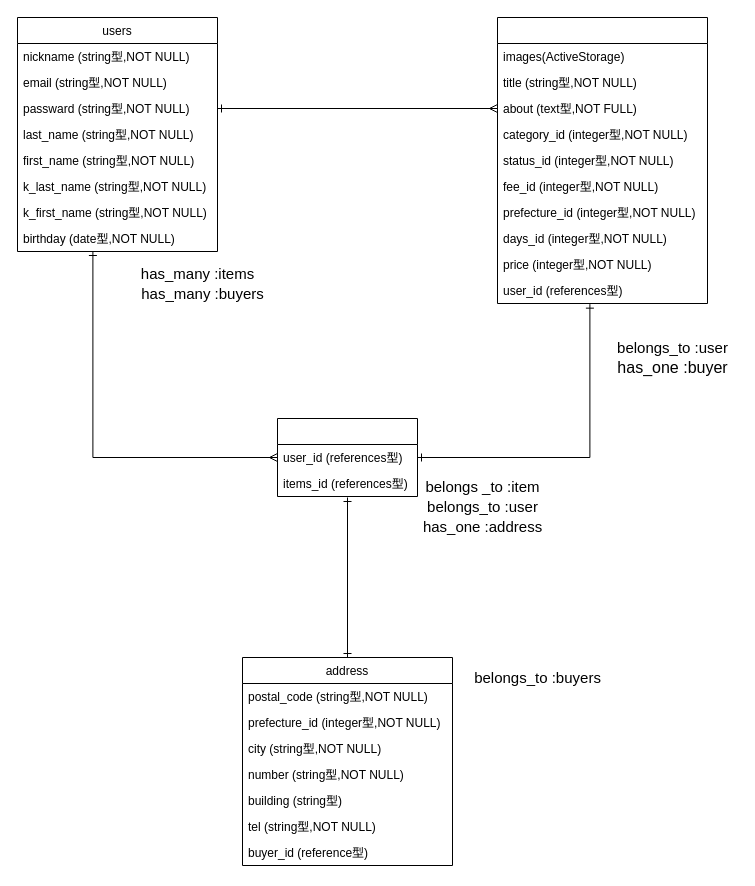
The diagram is 755 pixels wide and 886 high, and some of its shapes have lost their labels. The shapes that lost their labels are listed below. From the top down, each one's box as (x1, y1, x2, y2) in pixels, then its label:
(496, 16, 708, 304): items
(276, 418, 418, 496): buyers
